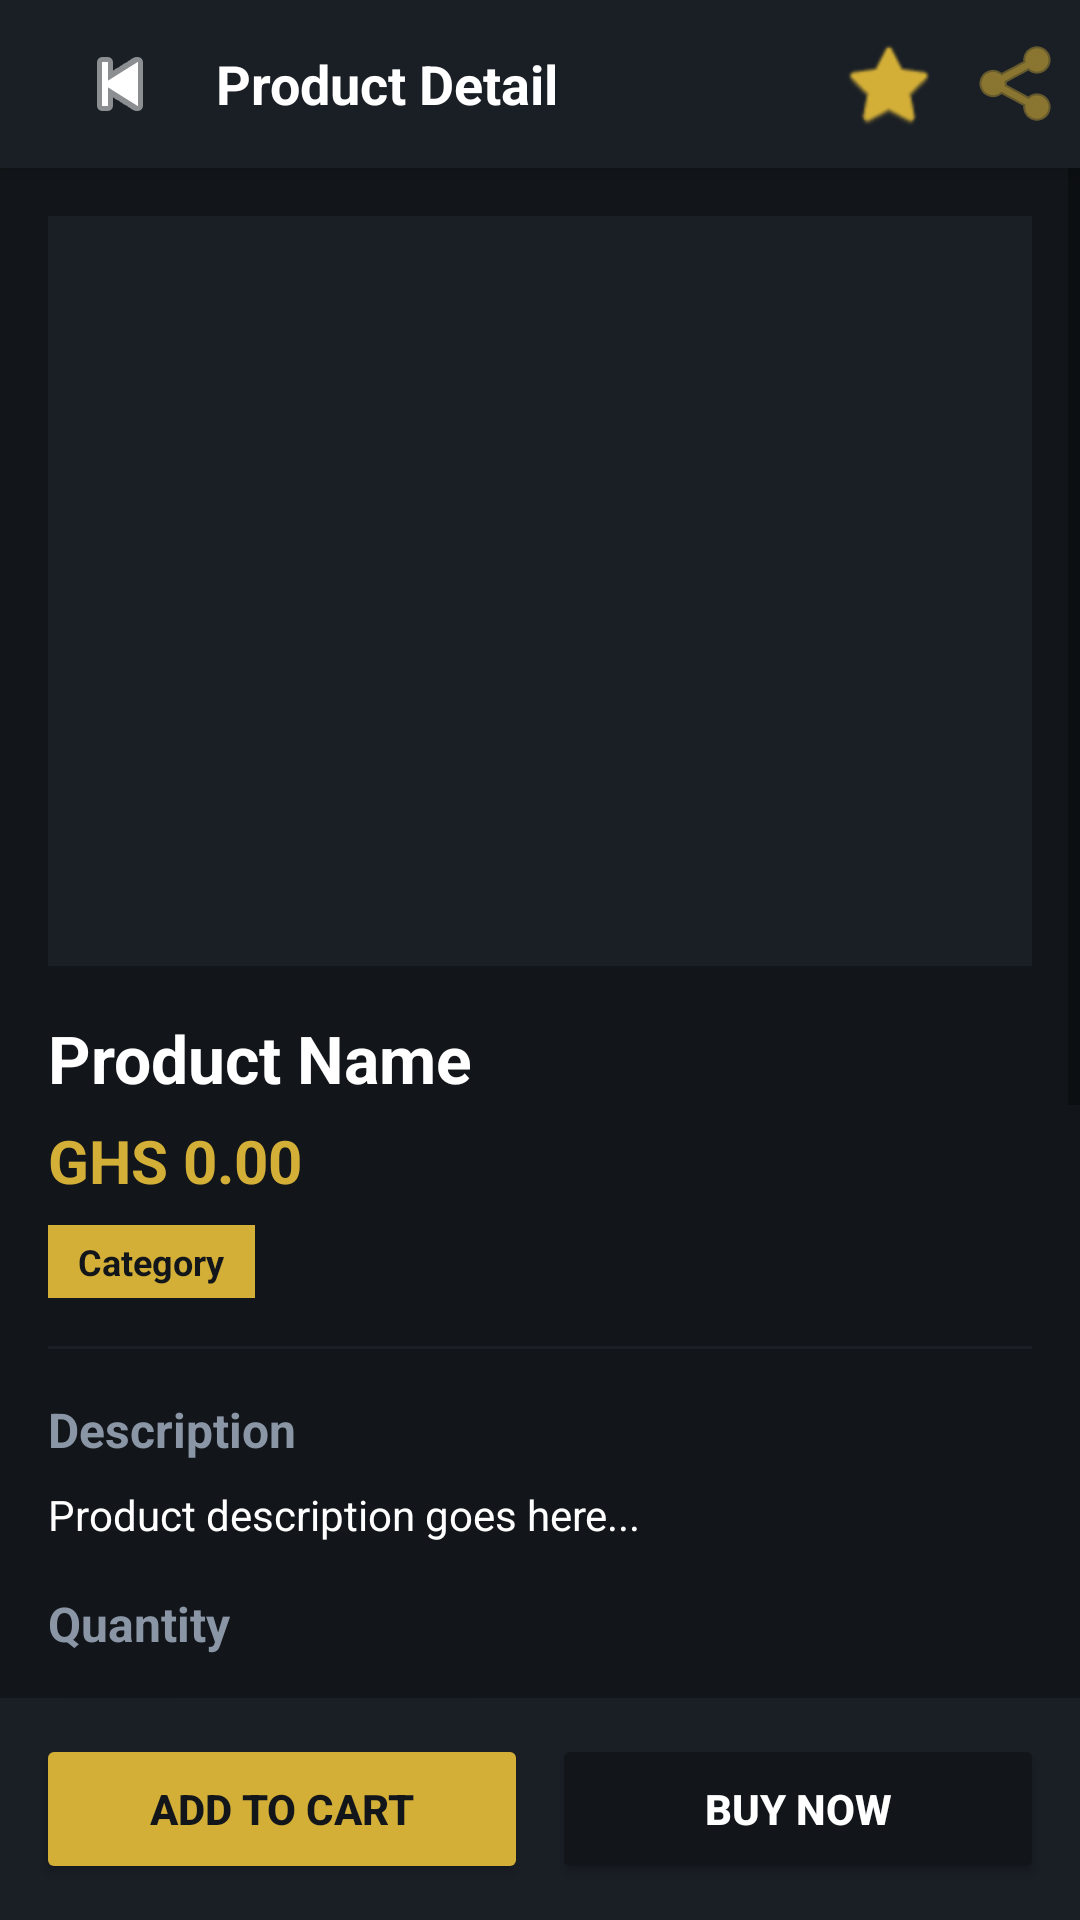

Where to tap for icons on this 1080 x 1920 app screen, as point (x, y):
Back: point (120, 84)
Share Product: point (1015, 83)
Wishlist: point (889, 84)
